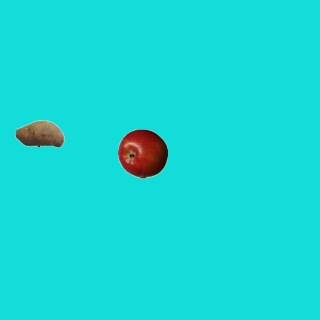Apple Braeburn: (117, 128, 167, 178)
Potato Sweet: (14, 108, 64, 158)
